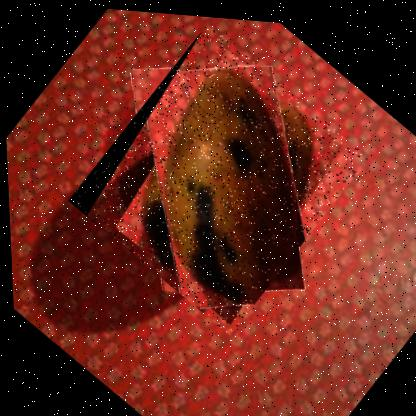mango_rotten: (58, 10, 374, 341)
